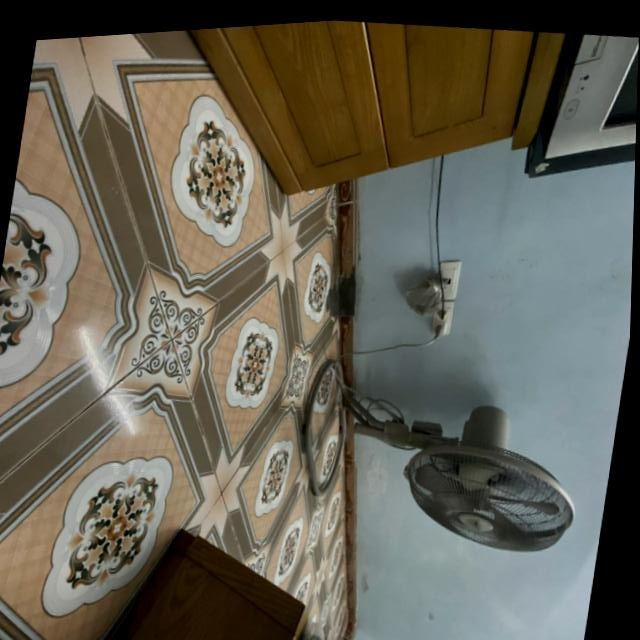outlet: (434, 257, 463, 301), (431, 299, 456, 337)
